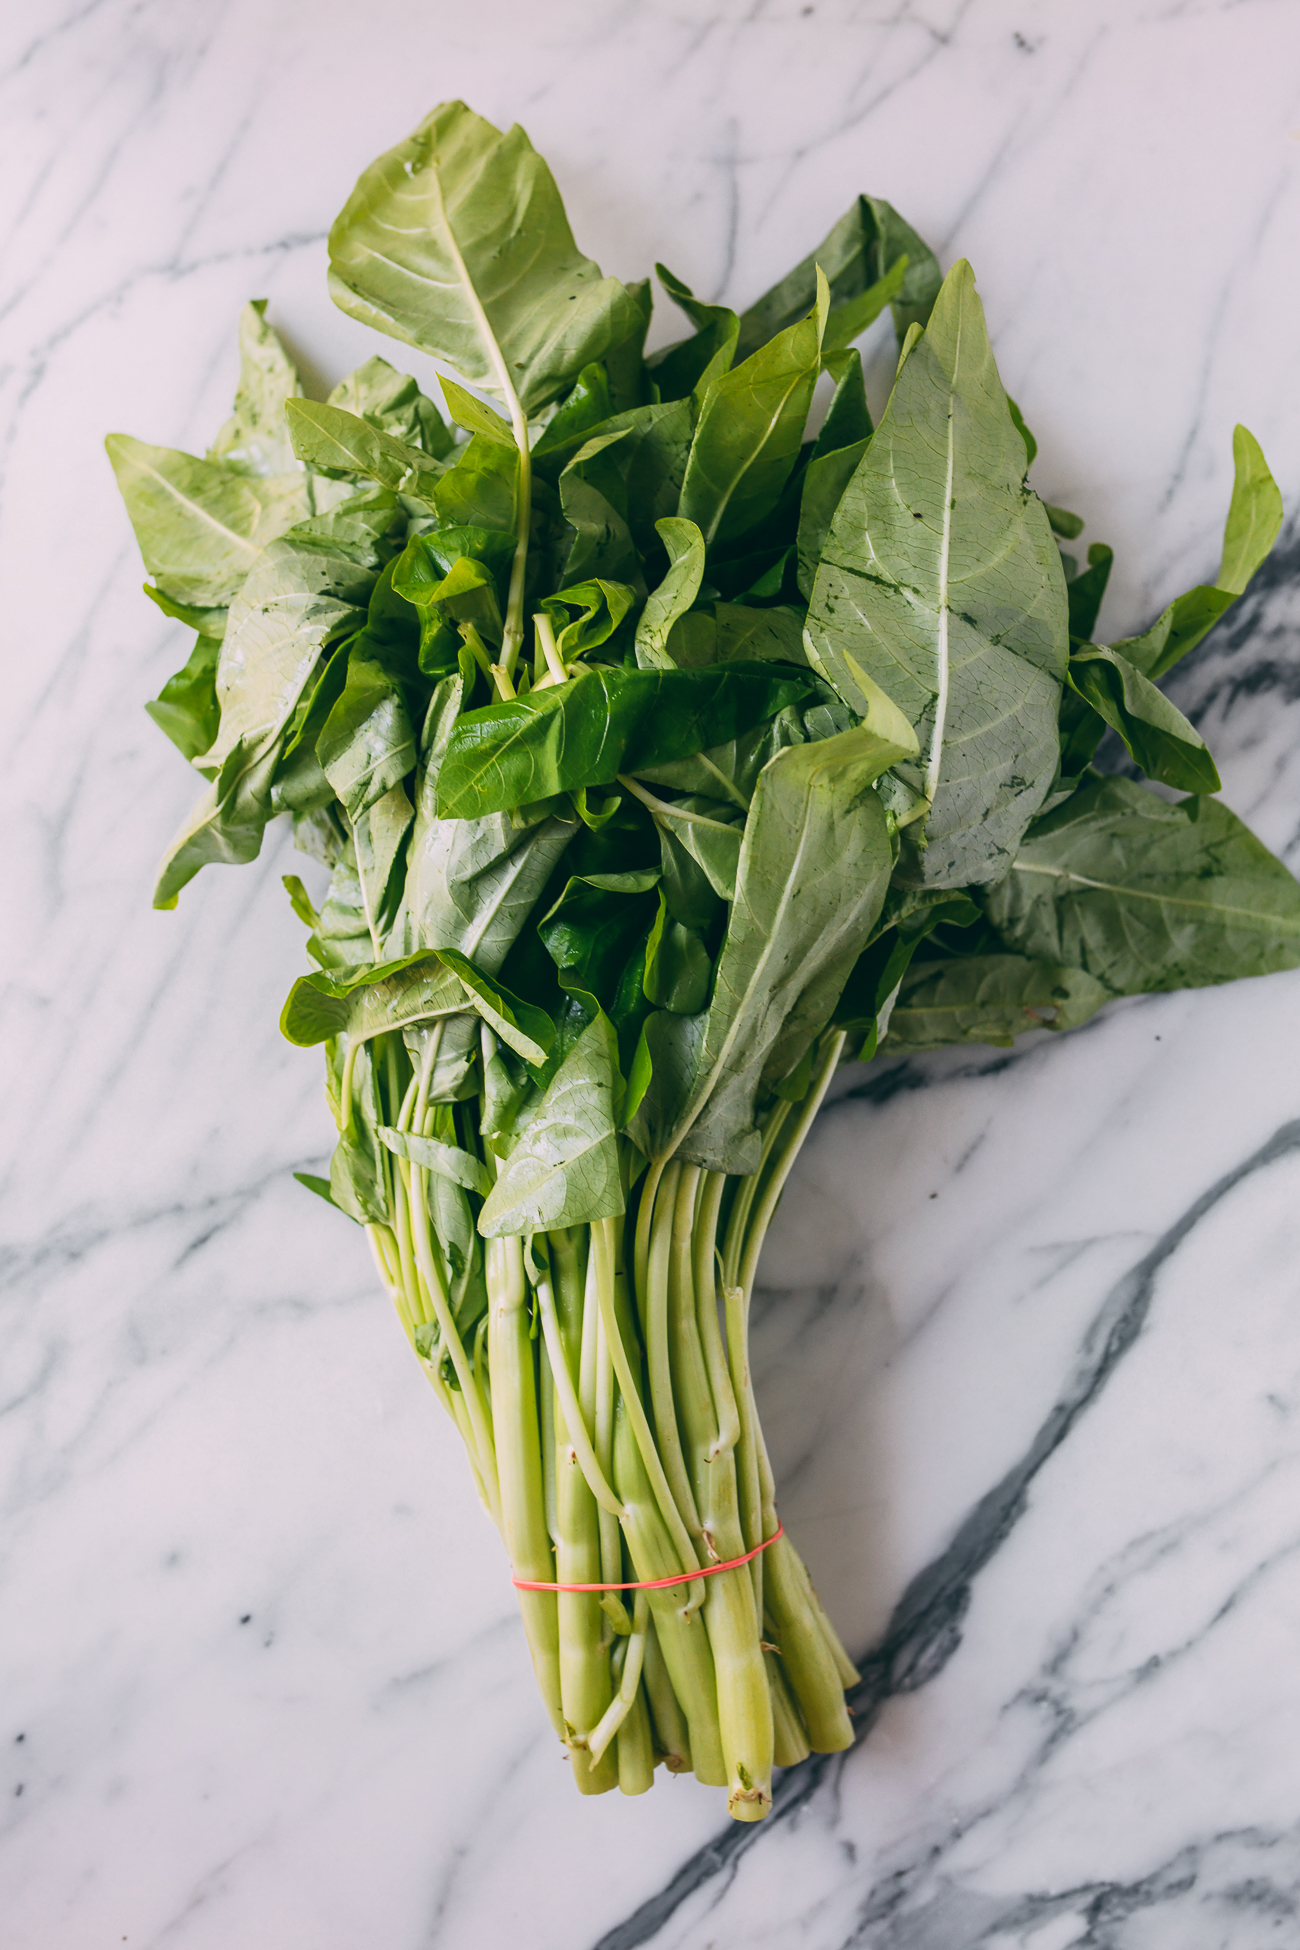Kangkung: (161, 107, 1238, 1922)
